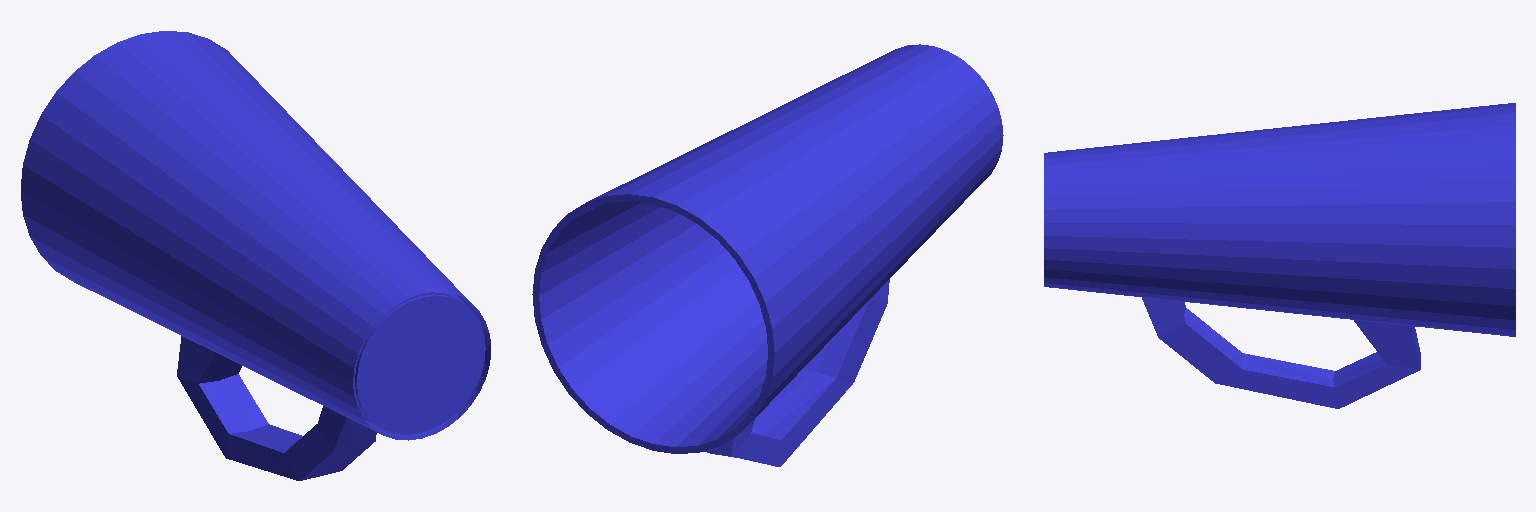
robot.urdf — mug_2:
<?xml version="1.0"?>
<robot name="mug_2">
  <link name="mug_base_link">
    <contact>
      <lateral_friction value="1.0"/>
      <spinning_friction value=".001"/>
    </contact>
    <inertial>
      <origin rpy="0 0 0" xyz="0 0 0"/>
      <mass value="0.2"/>
      <inertia ixx="1" ixy="0" ixz="0" iyy="1" iyz="0" izz="1"/>
    </inertial>
    <visual>
      <origin rpy="0 0 0" xyz="0.0 0.0 0.0"/>
      <geometry>
        <mesh filename="./m2.obj" scale="1 1.5 1"/>
      </geometry>
      <material name="mug_mat">
        <color rgba="0.3 0.3 0.9 1"/>
      </material>
    </visual>
    <collision>
      <origin rpy="0 0 0" xyz="0.0 0.0 0.0"/>
      <geometry>
        <mesh filename="./m2_cd.obj" scale="1 1.5 1"/>
      </geometry>
    </collision>
  </link>
</robot>

--- Facts derived from the render (not from the file) ---
Views: 3 orthographic renders of the robot side by side, from view 1: azimuth 30°, elevation 25°; view 2: azimuth 150°, elevation 25°; view 3: azimuth 270°, elevation 25°.
Robot: mug_2 — 1 links, 0 joints (none); root link mug_base_link; default pose: every joint at zero.
Visible links, largest first — view 1: mug_base_link; view 2: mug_base_link; view 3: mug_base_link.
Boxes of the visible links, x1,y1,x2,y2 form: mug_base_link: [21, 31, 490, 480]; mug_base_link: [532, 44, 1003, 466]; mug_base_link: [1044, 103, 1515, 408].
Size in the robot's own frame: 3.2 by 6.42 by 4.33 metres.
1 mesh visuals loaded from 1 distinct referenced files (1 OBJ).